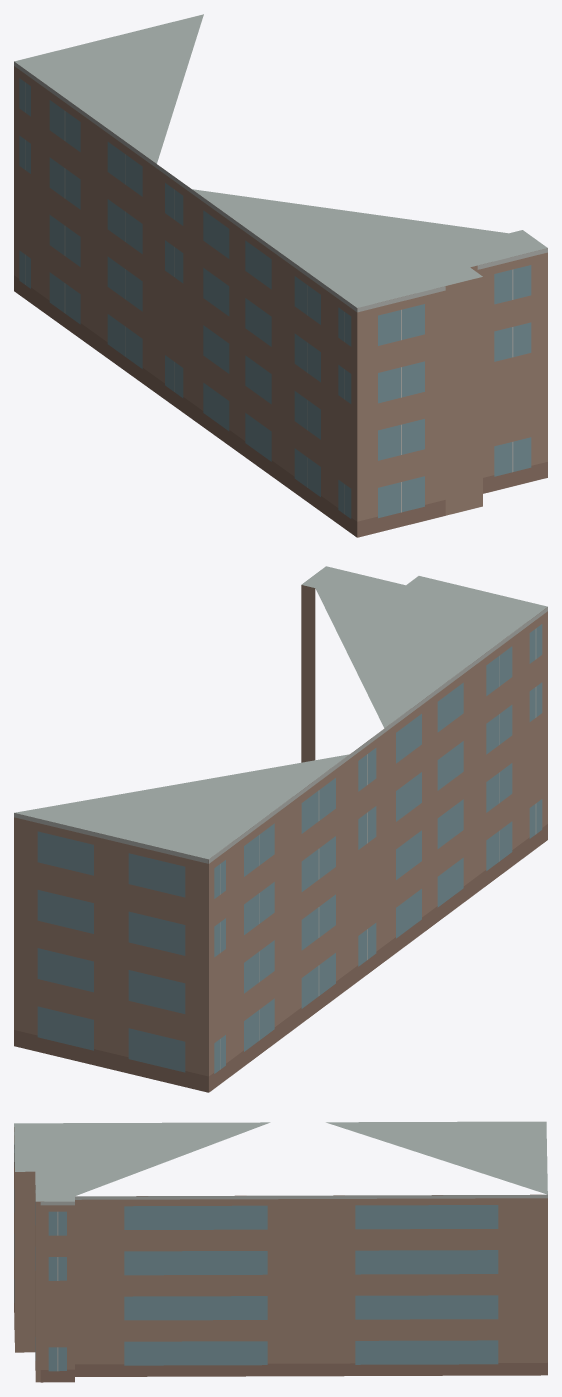
Rendered from survey-upis-32753595.glb.
3 renders of one model, top to bottom at view 1: azimuth 30°, elevation 25°; view 2: azimuth 150°, elevation 25°; view 3: azimuth 270°, elevation 25°, orthographic. The views are drawn at different scales.
Parts seen in each view (by area): view 1: survey-upis-32753595.tmp; view 2: survey-upis-32753595.tmp; view 3: survey-upis-32753595.tmp.
Boxes of the visible parts, x1,y1,x2,y2 form: survey-upis-32753595.tmp: (14, 14, 547, 537); survey-upis-32753595.tmp: (14, 566, 547, 1092); survey-upis-32753595.tmp: (14, 1121, 547, 1382).
Bounding box in the file's own units: 12.02 × 12.6 × 33.75.
